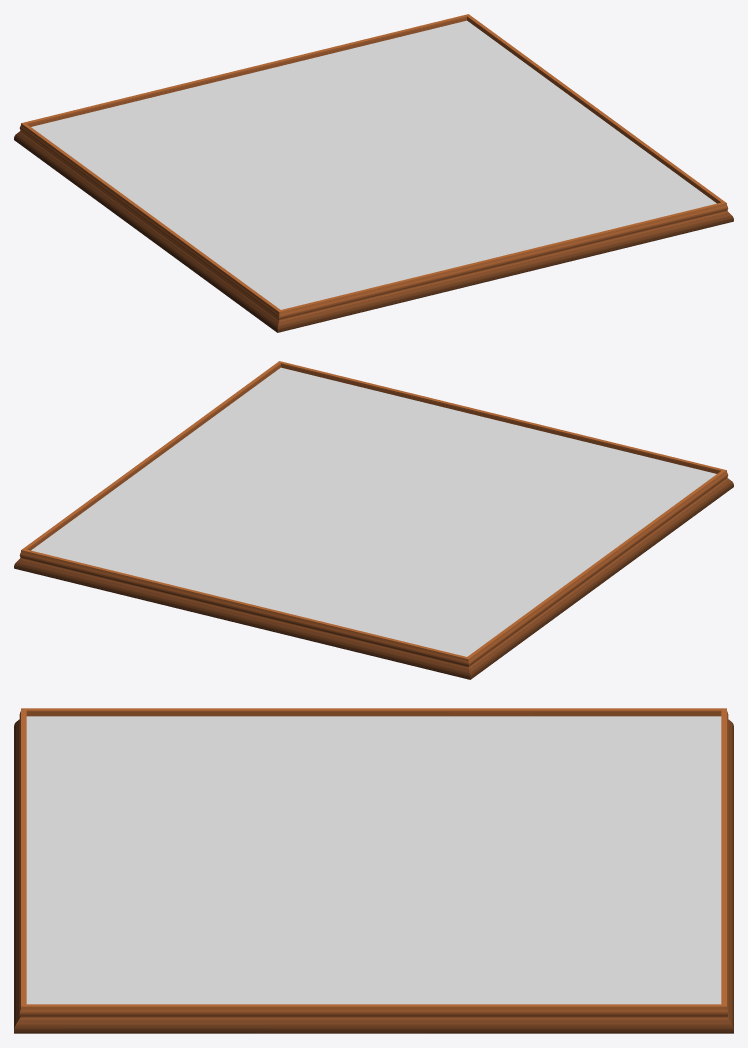
Rendered from big-borders.fbx.
The picture shows the model from 3 angles, top to bottom: view 1: azimuth 30°, elevation 25°; view 2: azimuth 150°, elevation 25°; view 3: azimuth 270°, elevation 25°; orthographic projection. The views are drawn at different scales.
Parts seen in each view (by area): view 1: BigBorders; view 2: BigBorders; view 3: BigBorders.
Part boxes in pixels (left/top/right/bottom): BigBorders: left=14, top=14, right=733, bottom=332; BigBorders: left=14, top=361, right=733, bottom=679; BigBorders: left=14, top=708, right=733, bottom=1033.
Bounding box in the file's own units: 6121 × 227 × 6121.
